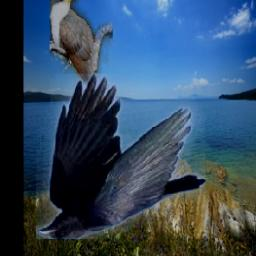Crow: (36, 74, 205, 239)
Cuckoo: (51, 0, 114, 130)
